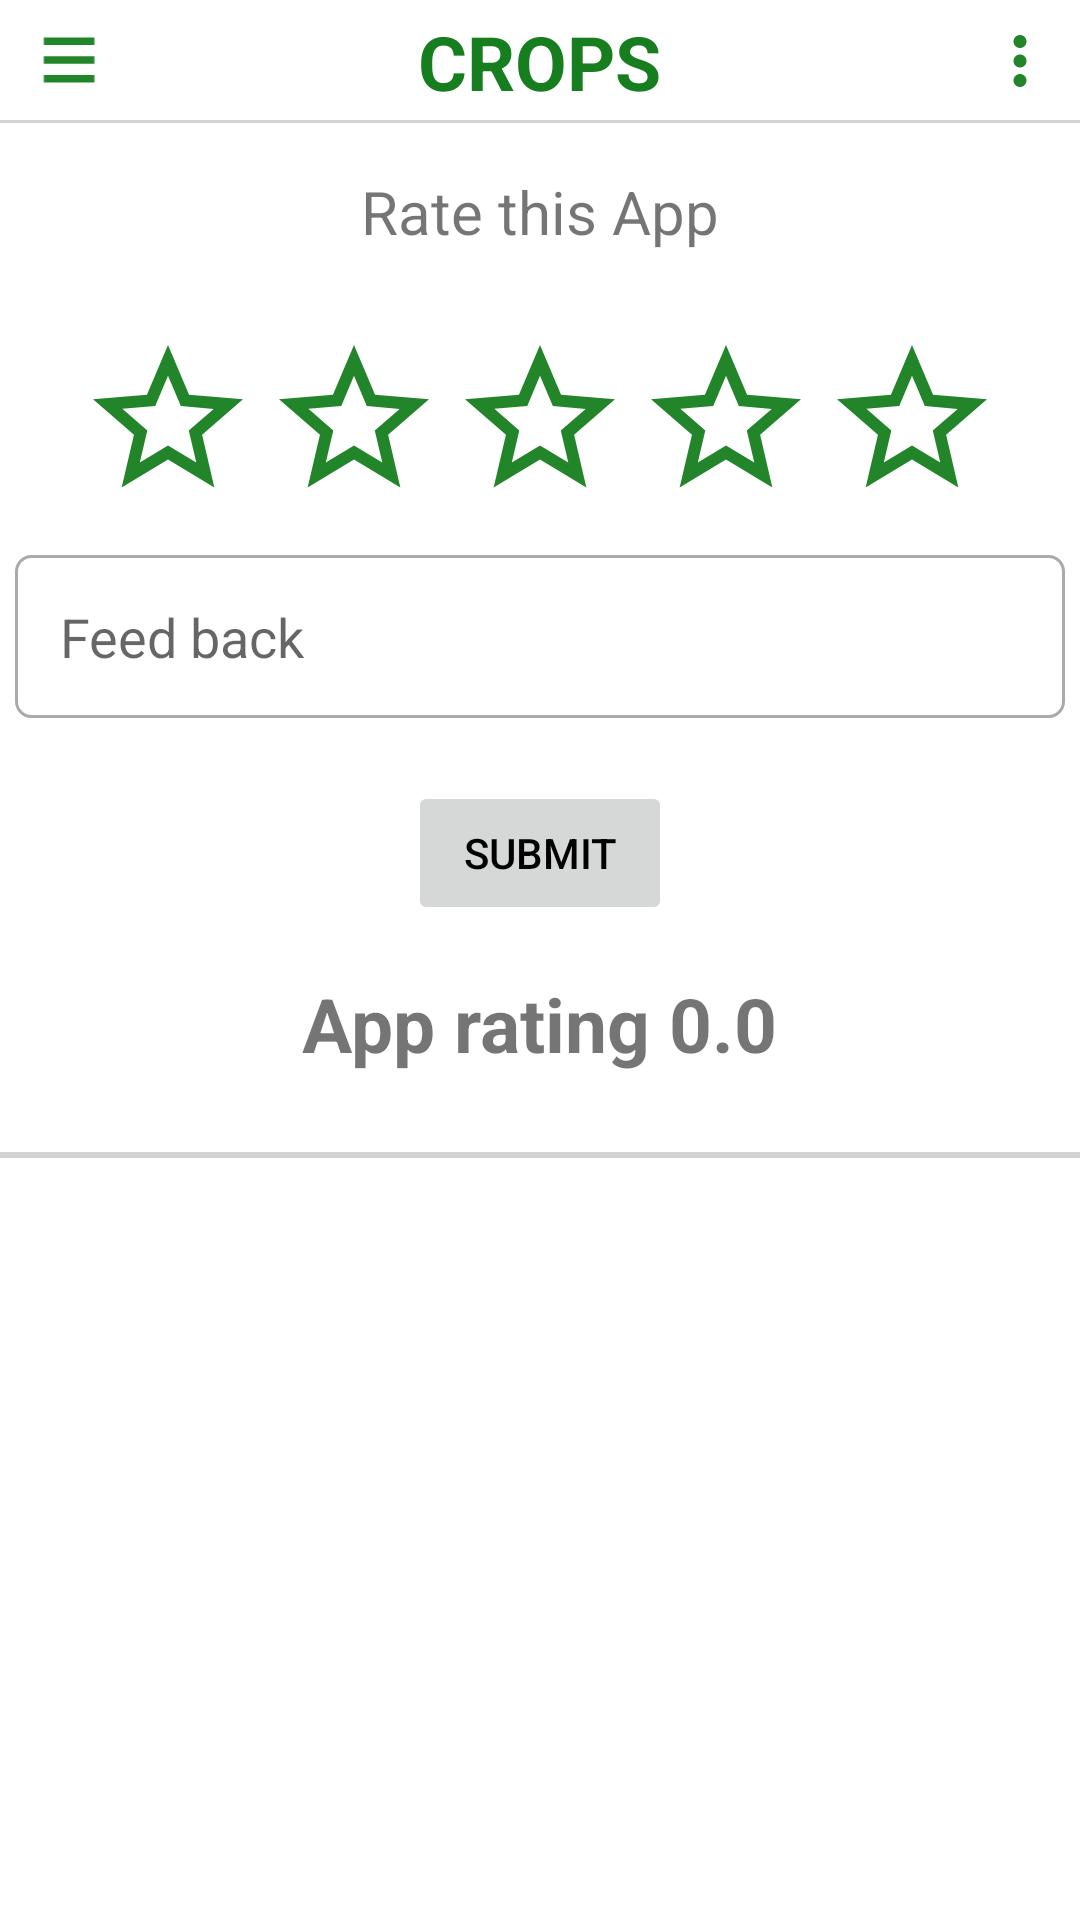

Point at icon controls on the screen. Image size 1080*1920, points as (x=x, y=y).
menu: (x=69, y=60)
starbefore: (x=168, y=416), (x=354, y=416), (x=540, y=416), (x=726, y=416), (x=912, y=416)
three dot: (x=1020, y=61)
